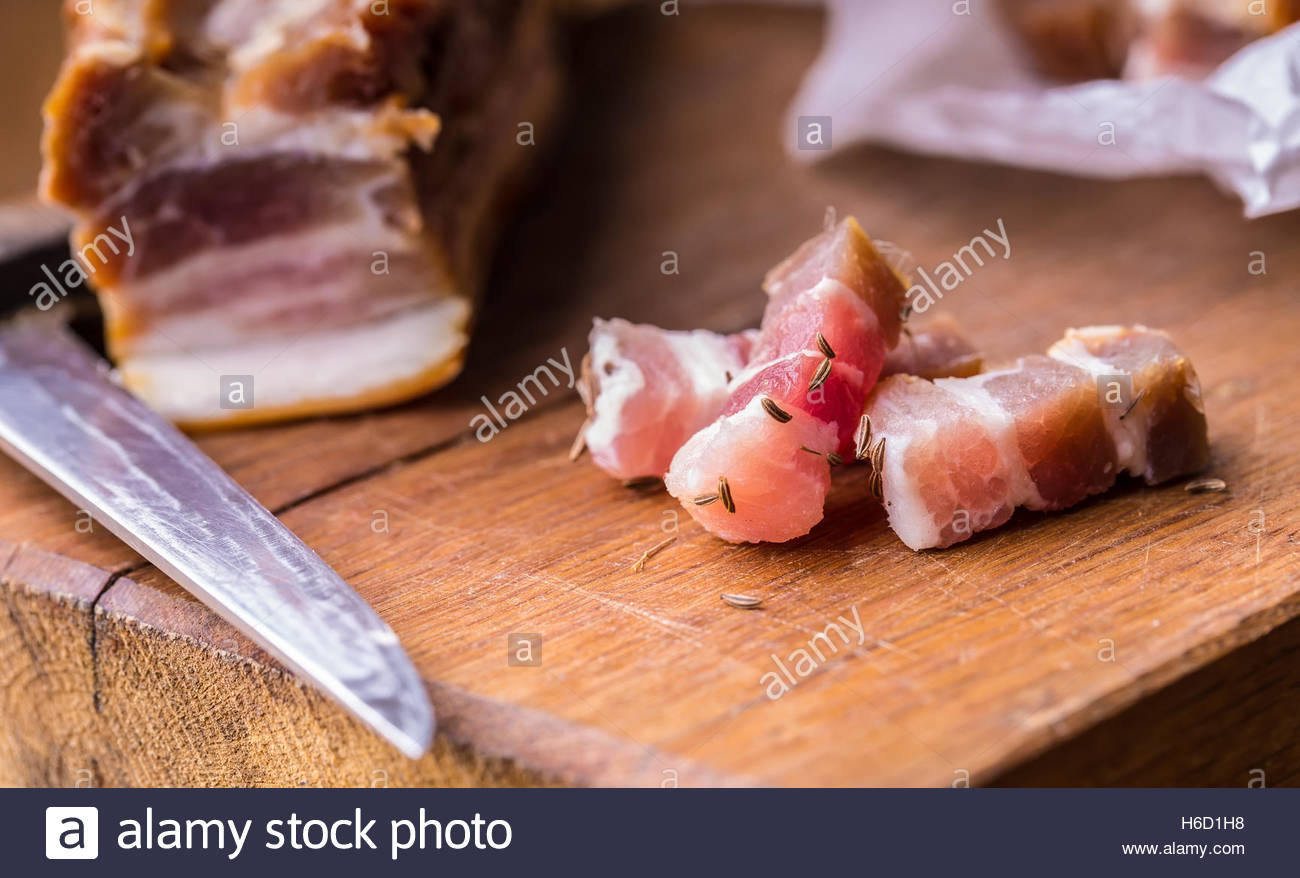bacon: (574, 208, 1195, 587)
